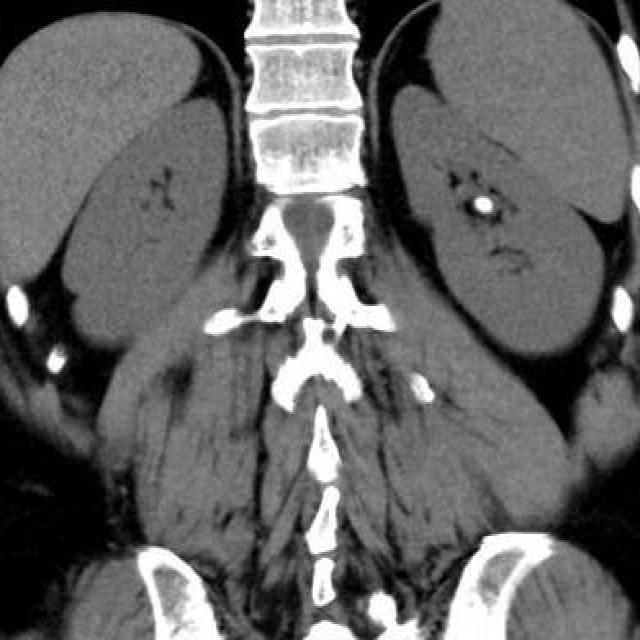Tas_Var: (474, 193, 495, 219)
